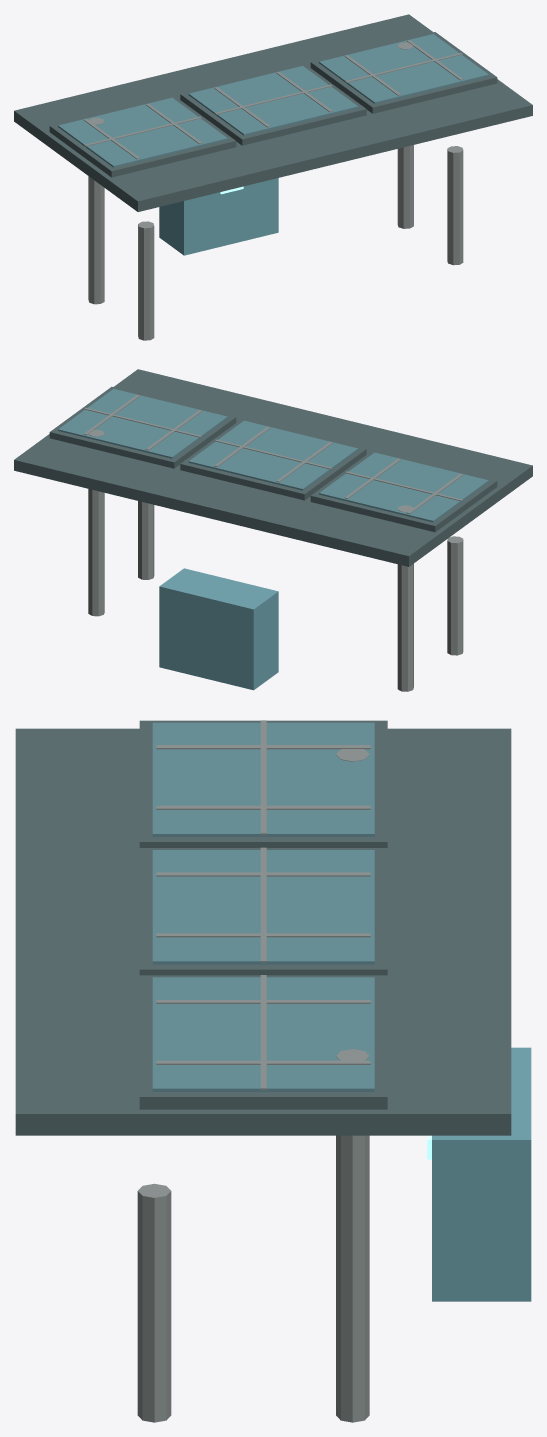
The model's file is town_solar_array.glb.
The picture shows the model from 3 angles, top to bottom: view 1: azimuth 30°, elevation 25°; view 2: azimuth 150°, elevation 25°; view 3: azimuth 270°, elevation 25°; orthographic projection. The views are drawn at different scales.
Parts seen in each view (by area): view 1: solar frame, inverter, solar blue photovoltaic glass.004, solar blue photovoltaic glass.005, solar blue photovoltaic glass.003, solar black frame.003, solar black frame.005, solar black frame.004, solar support, solar support.001, solar support.003, solar support.002; view 2: solar frame, inverter, solar blue photovoltaic glass.004, solar blue photovoltaic glass.003, solar blue photovoltaic glass.005, solar black frame.003, solar black frame.005, solar black frame.004, solar support, solar support.002, solar support.001, solar support.003; view 3: solar frame, solar blue photovoltaic glass.004, solar blue photovoltaic glass.005, solar blue photovoltaic glass.003, inverter, solar support.002, solar black frame.005, solar support.003, solar black frame.003, solar black frame.004, solar cell line.007, solar cell line.008 (+4 smaller).
Boxes of the visible parts, x1,y1,x2,y2 form: solar frame: [14, 14, 532, 211]; inverter: [159, 178, 278, 255]; solar blue photovoltaic glass.004: [188, 66, 358, 135]; solar blue photovoltaic glass.005: [319, 34, 488, 103]; solar blue photovoltaic glass.003: [58, 97, 227, 167]; solar black frame.003: [49, 95, 236, 177]; solar black frame.005: [310, 32, 497, 113]; solar black frame.004: [180, 63, 366, 145]; solar support: [88, 117, 104, 304]; solar support.001: [138, 221, 154, 340]; solar support.003: [447, 146, 463, 265]; solar support.002: [397, 42, 413, 228]; solar frame: [14, 369, 532, 566]; inverter: [159, 568, 278, 690]; solar blue photovoltaic glass.004: [188, 420, 358, 490]; solar blue photovoltaic glass.003: [319, 452, 488, 522]; solar blue photovoltaic glass.005: [58, 388, 227, 458]; solar black frame.003: [310, 450, 497, 532]; solar black frame.005: [49, 386, 236, 468]; solar black frame.004: [180, 418, 366, 500]; solar support: [397, 505, 413, 691]; solar support.002: [88, 429, 104, 616]; solar support.001: [447, 536, 463, 655]; solar support.003: [138, 501, 154, 579]; solar frame: [15, 728, 511, 1135]; solar blue photovoltaic glass.004: [152, 850, 374, 964]; solar blue photovoltaic glass.005: [152, 977, 374, 1091]; solar blue photovoltaic glass.003: [152, 722, 374, 836]; inverter: [432, 1047, 531, 1301]; solar support.002: [336, 1049, 369, 1422]; solar black frame.005: [139, 975, 387, 1109]; solar support.003: [137, 1183, 171, 1422]; solar black frame.003: [139, 720, 387, 847]; solar black frame.004: [139, 848, 387, 975]; solar cell line.007: [156, 805, 370, 809]; solar cell line.008: [156, 872, 370, 876].
Bounding box in the file's own units: 4.6 × 2.01 × 2.6.
